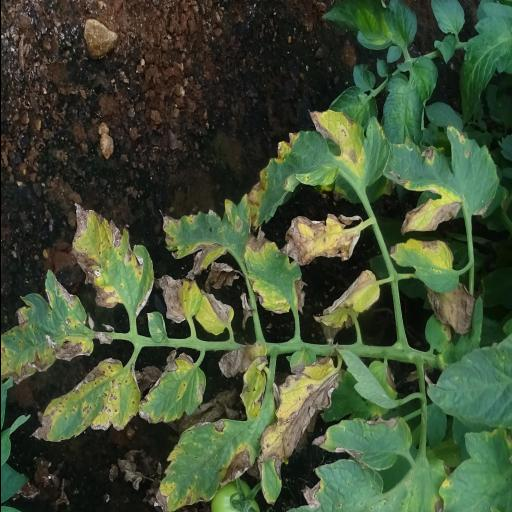disease_tomato: (254, 110, 390, 206), (378, 130, 498, 236), (0, 267, 91, 383), (30, 358, 142, 446), (258, 358, 344, 472), (153, 417, 255, 512), (69, 202, 155, 311), (159, 188, 251, 280), (258, 458, 388, 512), (309, 412, 410, 470), (242, 228, 306, 316), (156, 271, 236, 339), (280, 209, 362, 271), (138, 353, 206, 427), (388, 235, 458, 296)
